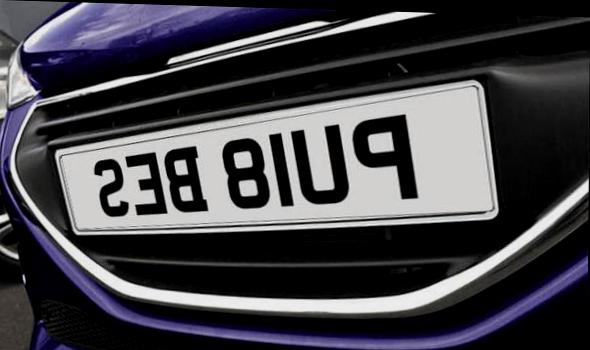License_Plate: (71, 67, 480, 259)
